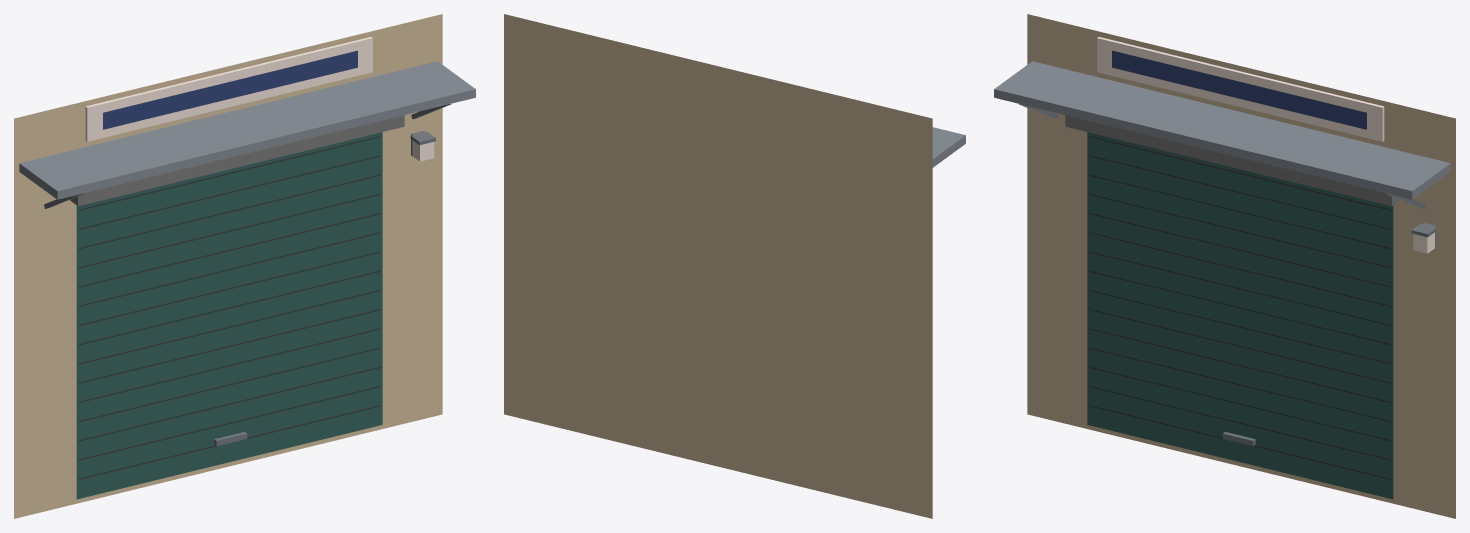
Rendered from entrance_close.fbx.
3 renders of one model, left to right at view 1: azimuth 30°, elevation 25°; view 2: azimuth 150°, elevation 25°; view 3: azimuth 330°, elevation 25°, orthographic.
Parts seen in each view (by area): view 1: a2004/500/entrance_close; view 2: a2004/500/entrance_close; view 3: a2004/500/entrance_close.
Boxes of the visible parts, x1,y1,x2,y2 form: a2004/500/entrance_close: [14, 14, 475, 518]; a2004/500/entrance_close: [504, 14, 965, 518]; a2004/500/entrance_close: [994, 14, 1455, 518].
Bounding box in the file's own units: 4.2 × 3.75 × 0.65.
